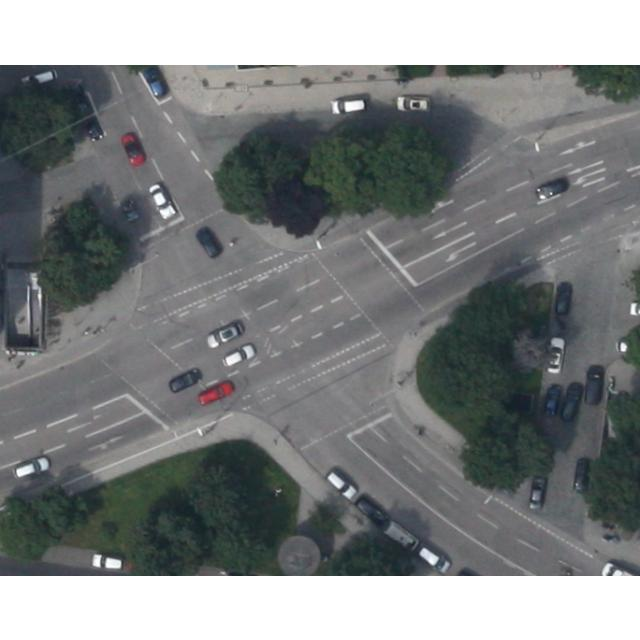vehicle: (352, 492, 390, 528), (383, 521, 419, 553), (416, 542, 452, 574), (204, 320, 244, 348), (147, 181, 176, 219), (197, 378, 235, 406), (559, 381, 583, 422), (194, 225, 223, 257), (20, 66, 58, 90), (12, 456, 50, 480), (326, 470, 356, 500), (221, 342, 255, 368), (167, 367, 201, 393), (584, 363, 604, 405), (142, 65, 168, 97), (120, 132, 144, 166), (535, 176, 569, 200), (572, 456, 592, 494), (547, 336, 565, 374), (528, 473, 546, 509), (332, 96, 366, 114), (91, 553, 125, 571), (554, 280, 572, 314), (84, 116, 105, 142), (398, 95, 430, 112), (120, 198, 140, 222), (544, 386, 560, 416)
